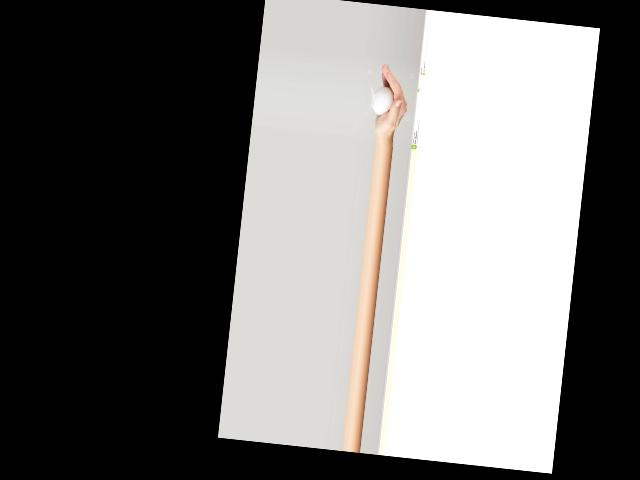egg: (372, 85, 395, 116)
